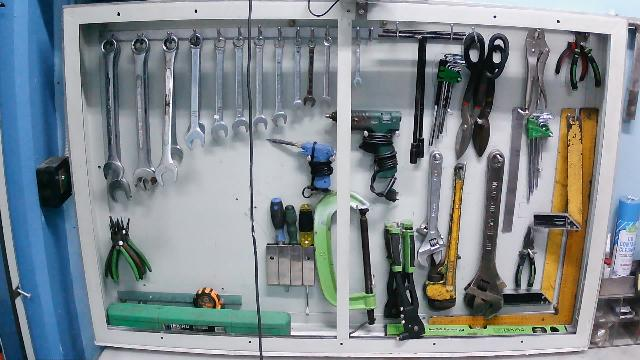tang_rivet: (387, 224, 428, 342)
